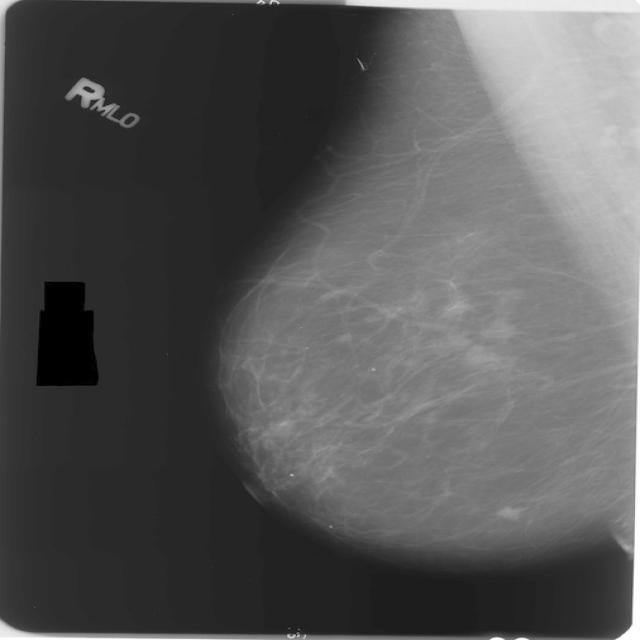tumour: (493, 506, 524, 520)
